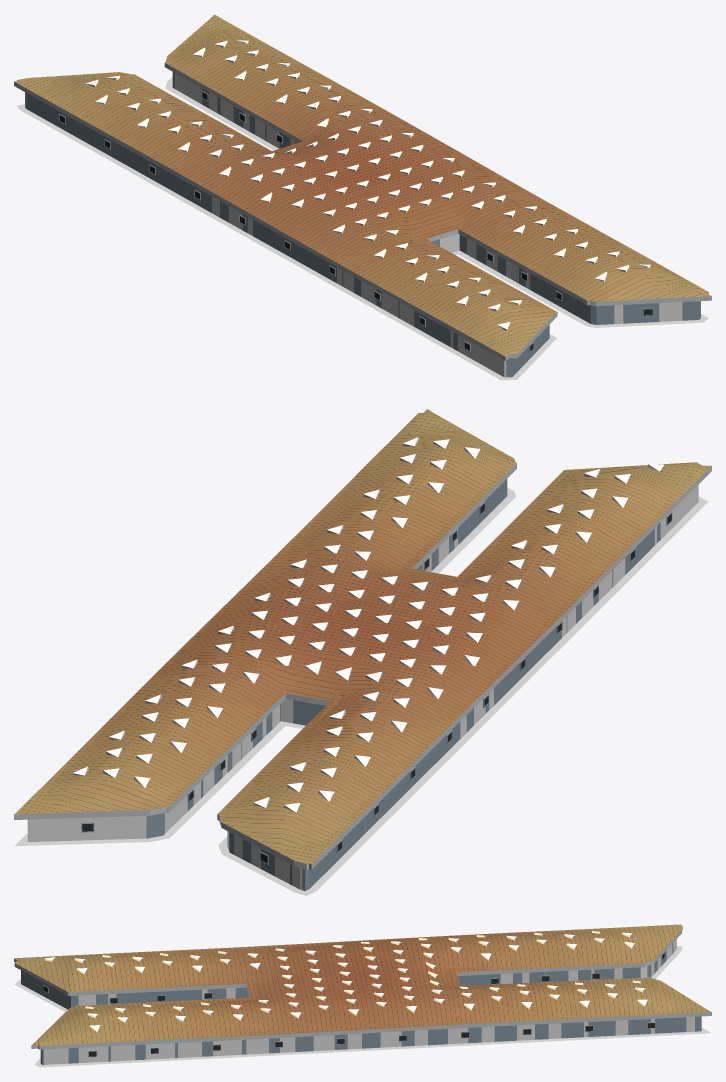
The picture shows the model from 3 angles, top to bottom: view 1: azimuth 30°, elevation 25°; view 2: azimuth 150°, elevation 25°; view 3: azimuth 270°, elevation 25°; orthographic projection. The views are drawn at different scales.
Visible parts, largest first — view 1: Terminal, Far, CLEAR_t3d_roof1, COL_hall1, COL_hall7, COL_hall3, CLEAR_t3d_roof2, CLEAR_t3d_roof4; view 2: Terminal, Far, COL_hall7, CLEAR_t3d_roof1, COL_hall1, CLEAR_t3d_roof4, COL_hall0, CLEAR_t3d_roof2; view 3: Terminal, Far, COL_hall4, CLEAR_t3d_roof3, COL_hall0, COL_hall5.
Part boxes in pixels (left/top/right/bottom): Terminal: left=16, top=17, right=708, bottom=377; Far: left=14, top=14, right=711, bottom=361; CLEAR_t3d_roof1: left=21, top=110, right=499, bottom=379; COL_hall1: left=211, top=196, right=504, bottom=376; COL_hall7: left=174, top=73, right=295, bottom=148; COL_hall3: left=467, top=238, right=682, bottom=323; CLEAR_t3d_roof2: left=454, top=250, right=708, bottom=327; CLEAR_t3d_roof4: left=165, top=77, right=278, bottom=150; Terminal: left=20, top=413, right=707, bottom=890; Far: left=14, top=409, right=711, bottom=887; COL_hall7: left=27, top=704, right=279, bottom=841; CLEAR_t3d_roof1: left=316, top=502, right=707, bottom=890; COL_hall1: left=365, top=485, right=698, bottom=832; CLEAR_t3d_roof4: left=14, top=726, right=284, bottom=846; COL_hall0: left=227, top=831, right=302, bottom=889; CLEAR_t3d_roof2: left=286, top=487, right=515, bottom=724; Terminal: left=14, top=925, right=705, bottom=1064; Far: left=14, top=924, right=711, bottom=1048; COL_hall4: left=44, top=1017, right=694, bottom=1064; CLEAR_t3d_roof3: left=40, top=1031, right=710, bottom=1067; COL_hall0: left=500, top=940, right=676, bottom=983; COL_hall5: left=78, top=988, right=235, bottom=1005.
Size of the model in its own units: 180 by 22.76 by 433.
7 materials, 2 textured.
